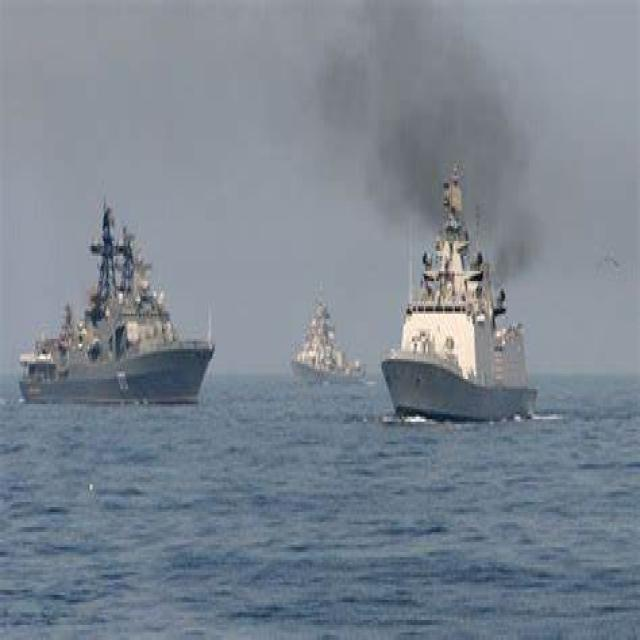navalvessels: (9, 197, 223, 412), (374, 163, 540, 425), (292, 291, 365, 384)
